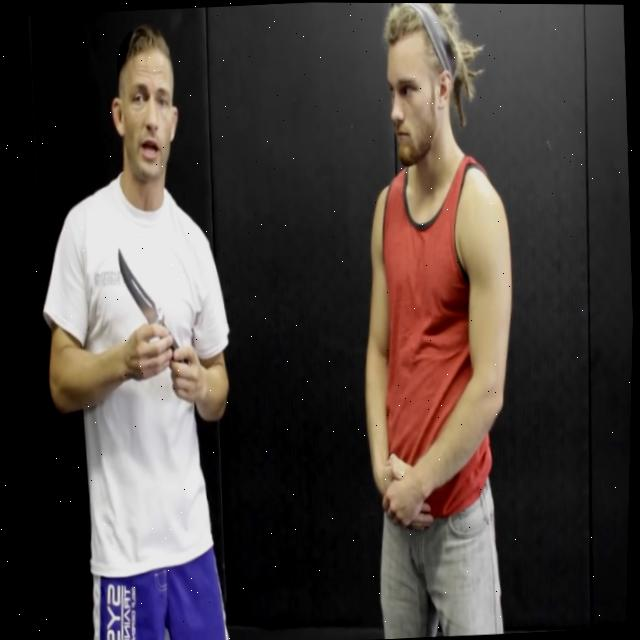knife: (111, 247, 162, 328)
